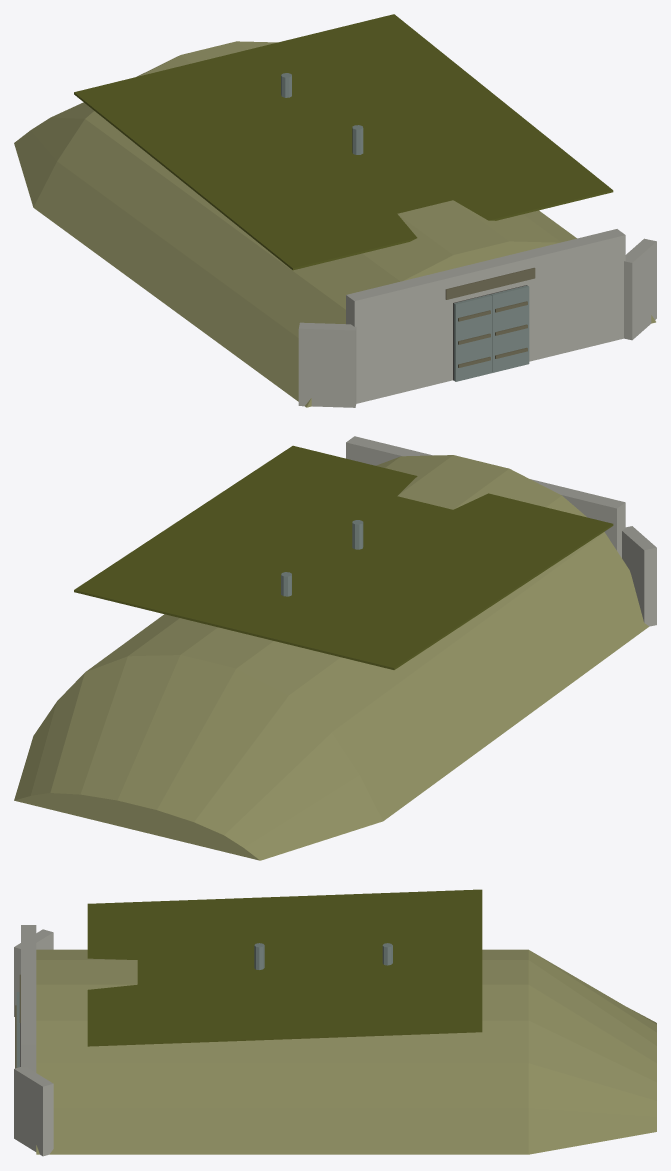
File: SM_Polvorin_v4_LOD0.fbx
The picture shows the model from 3 angles, top to bottom: view 1: azimuth 30°, elevation 25°; view 2: azimuth 150°, elevation 25°; view 3: azimuth 270°, elevation 25°; orthographic projection. The views are drawn at different scales.
Visible parts, largest first — view 1: SM_polvorin_v4_LOD0, Puerta_O, Puerta_E; view 2: SM_polvorin_v4_LOD0; view 3: SM_polvorin_v4_LOD0.
Part boxes in pixels (x1,y1,x2,y2): SM_polvorin_v4_LOD0: [14, 14, 656, 407]; Puerta_O: [453, 294, 492, 381]; Puerta_E: [491, 285, 529, 372]; SM_polvorin_v4_LOD0: [14, 436, 656, 860]; SM_polvorin_v4_LOD0: [14, 889, 656, 1156].
Bounding box in the file's own units: 14.53 × 5.7 × 25.07.
